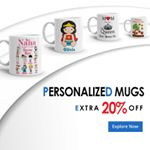cups: (1, 31, 43, 80), (41, 15, 86, 55), (86, 10, 121, 43), (122, 14, 150, 40)
